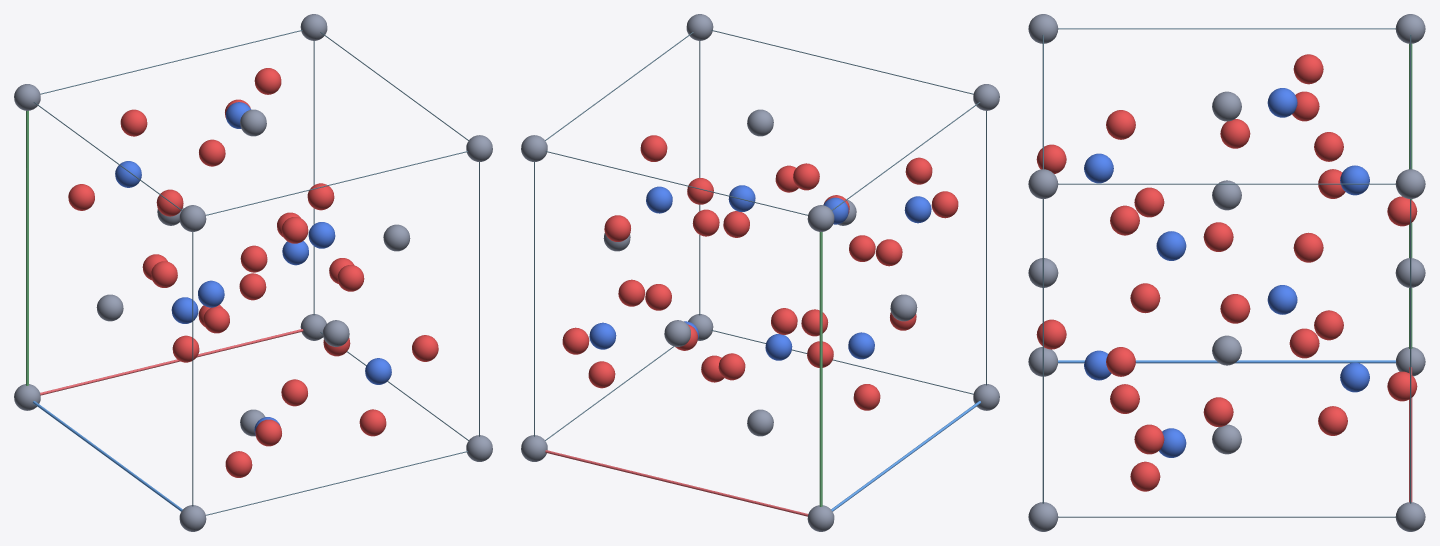
File: cod-2020897.glb
3 renders of one model, left to right at view 1: azimuth 30°, elevation 25°; view 2: azimuth 150°, elevation 25°; view 3: azimuth 270°, elevation 25°, orthographic. The views are drawn at different scales.
Parts seen in each view (by area): view 1: O · O · 1 (×18), Pb · Pb · 1 (×11), Ô mạng và các trục a, b, c, N · N · 1 (×5); view 2: O · O · 1 (×17), Pb · Pb · 1 (×11), Ô mạng và các trục a, b, c, N · N · 1 (×6); view 3: O · O · 1 (×24), Pb · Pb · 1 (×14), N · N · 1 (×8), Ô mạng và các trục a, b, c.
Part boxes in pixels (x1,y1,x2,y2): O · O · 1 (×18): (68,68,438,477); Pb · Pb · 1 (×11): (14,14,492,531); Ô mạng và các trục a, b, c: (26,30,479,515); N · N · 1 (×5): (115,161,391,384); O · O · 1 (×17): (562,135,958,410); Pb · Pb · 1 (×11): (521,14,999,531); Ô mạng và các trục a, b, c: (534,30,986,516); N · N · 1 (×6): (589,185,931,360); O · O · 1 (×24): (1036,54,1417,491); Pb · Pb · 1 (×14): (1028,14,1425,531); N · N · 1 (×8): (1084,88,1369,457); Ô mạng và các trục a, b, c: (1042,28,1412,517).
Bounding box in the file's own units: 8.5 × 8.5 × 8.5.
